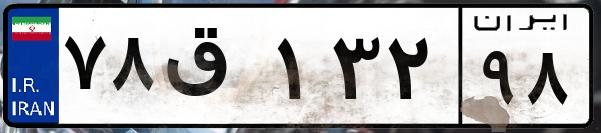1: (270, 28, 330, 110)
2: (385, 28, 445, 110)
3: (330, 28, 385, 110)
7: (57, 26, 110, 100)
8: (525, 38, 570, 115), (110, 28, 158, 98)
9: (475, 38, 525, 113)
ق: (158, 20, 270, 120)
